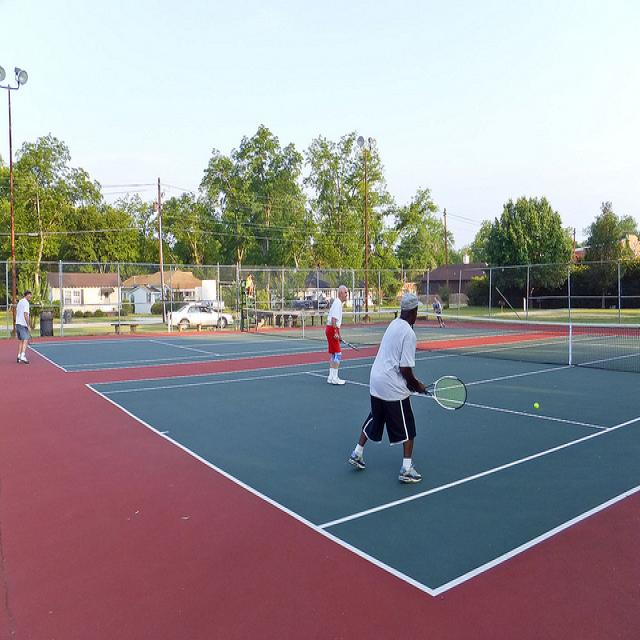Vehicle: (166, 302, 234, 330), (304, 295, 328, 310), (292, 300, 310, 311)
